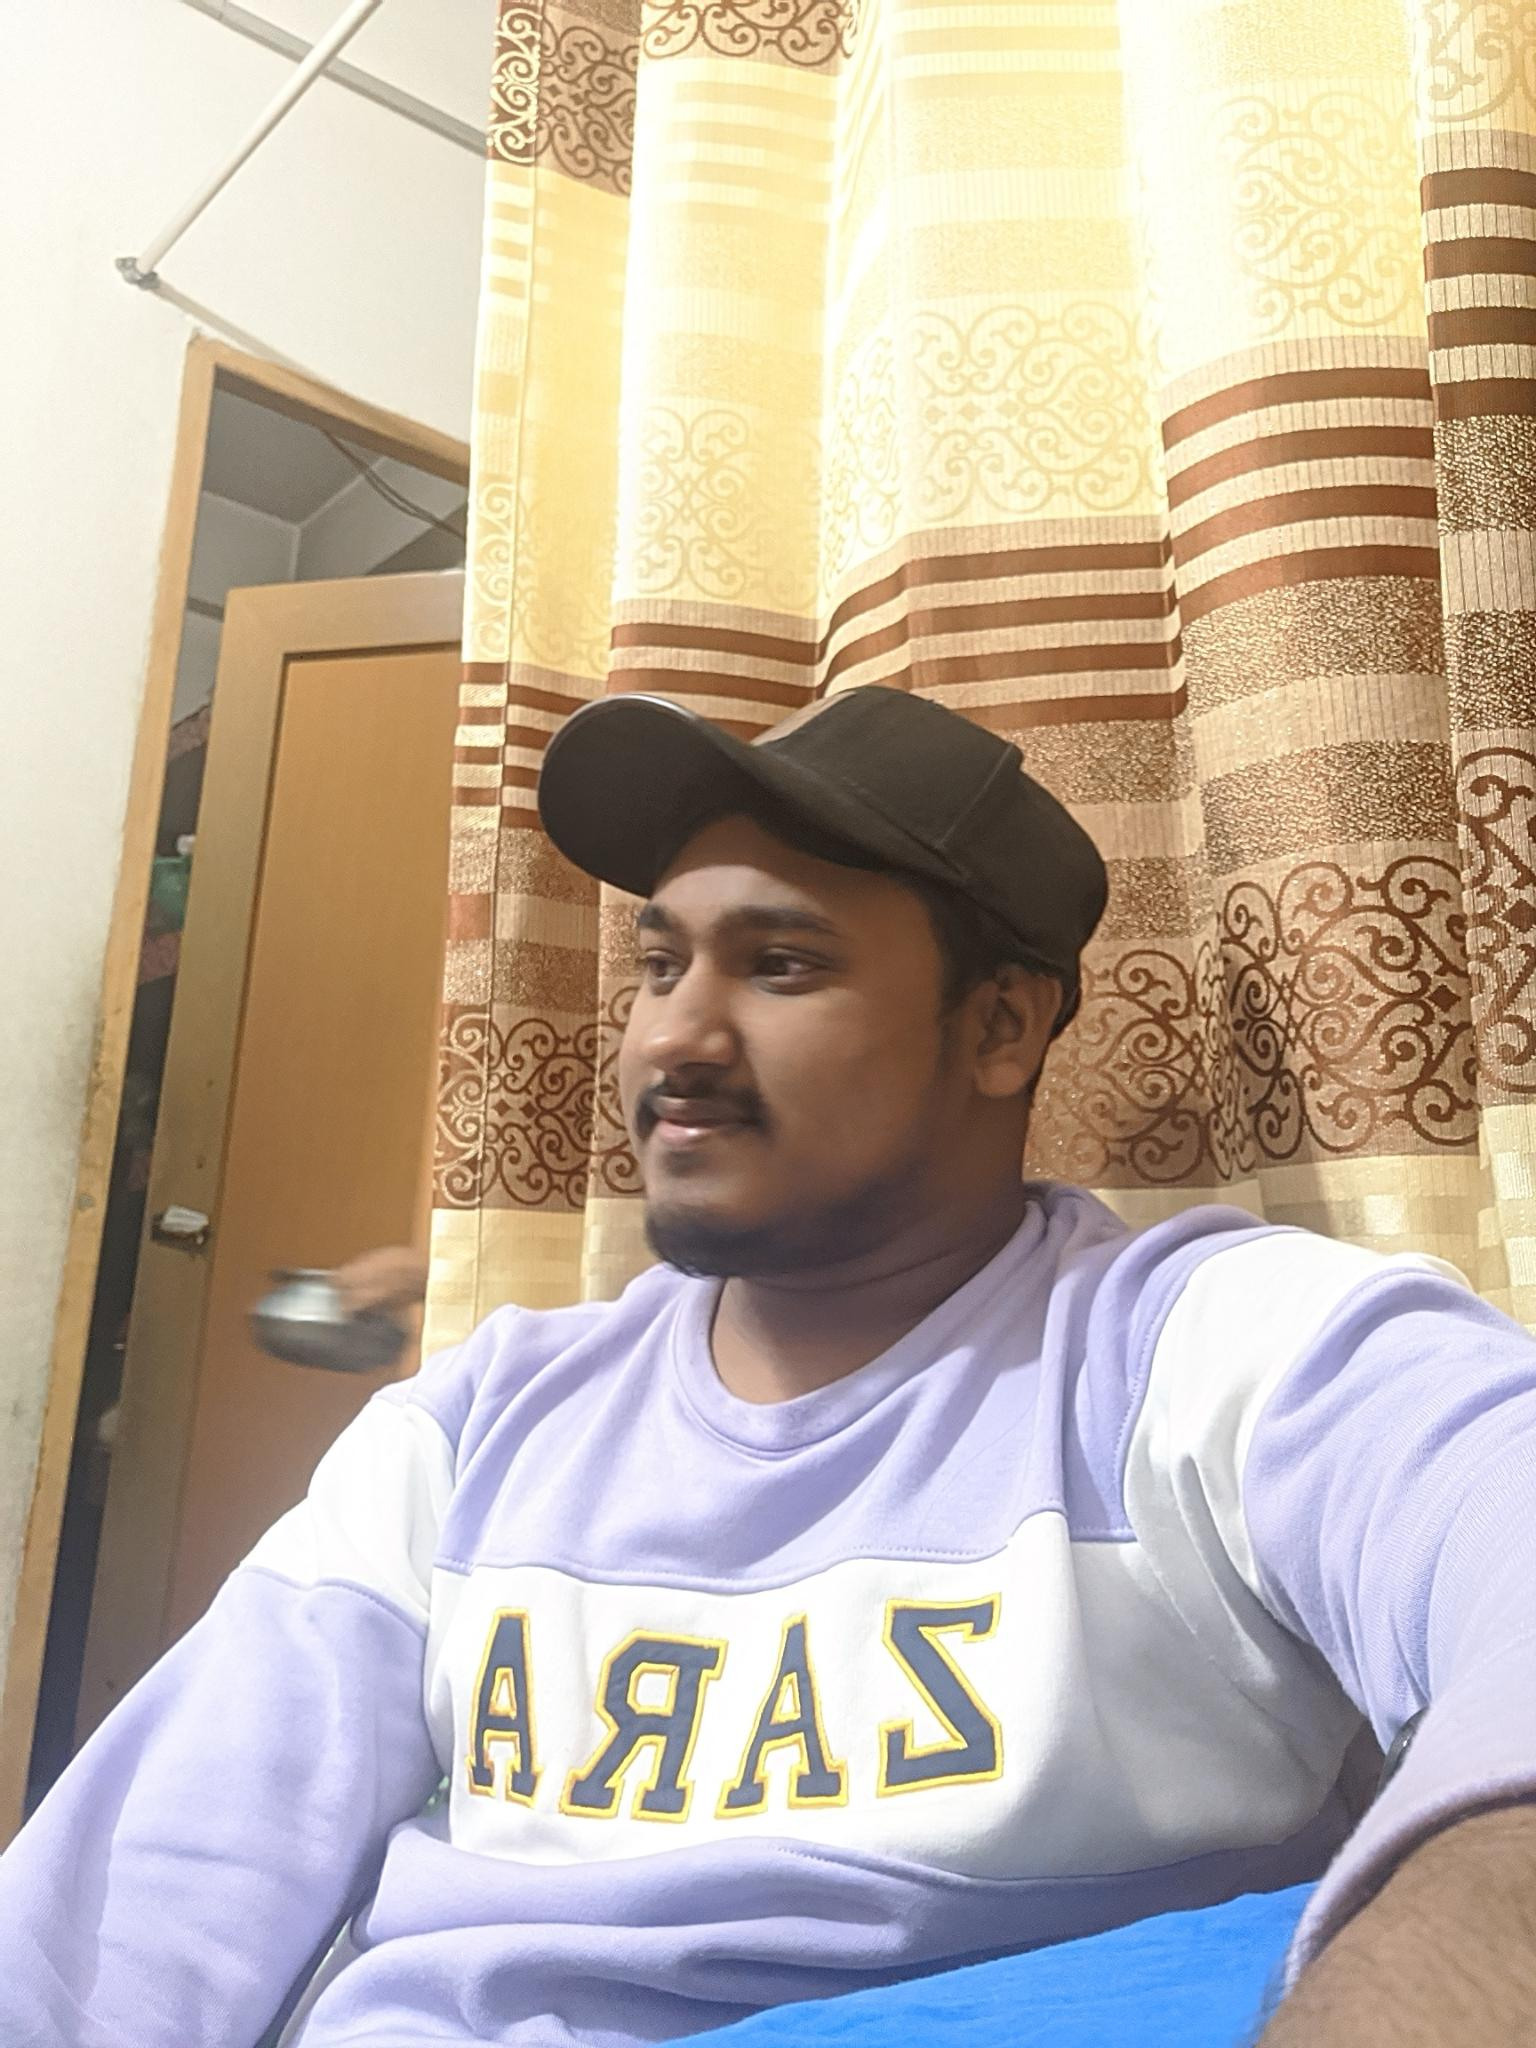Happy: (561, 855, 913, 1258)
